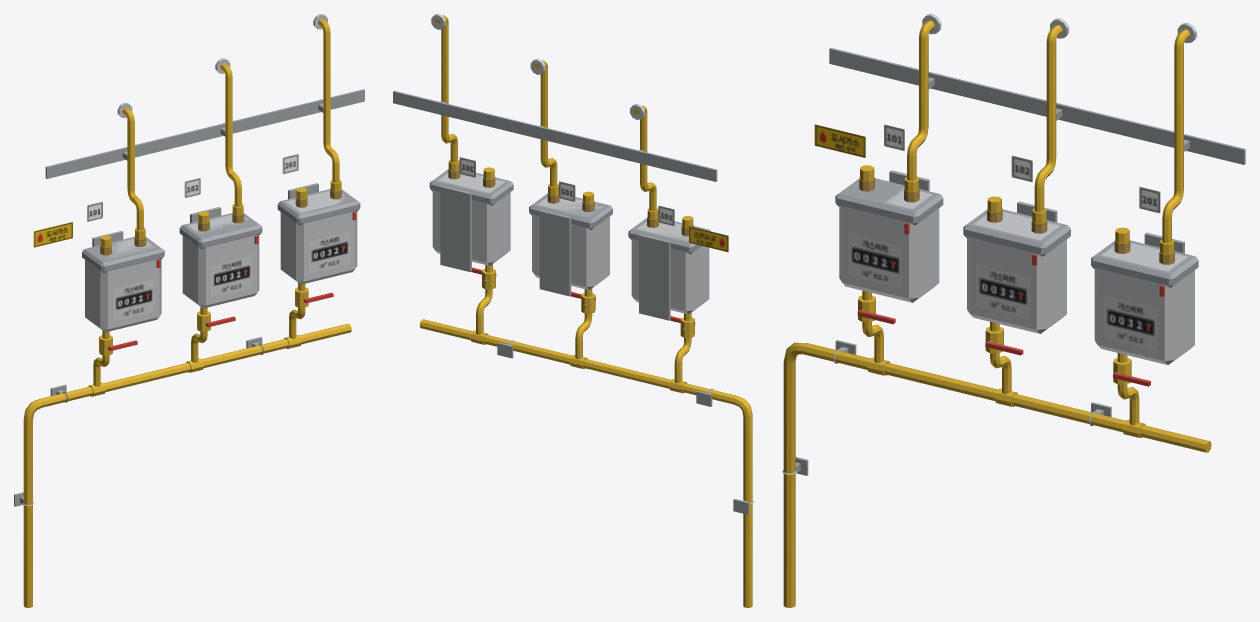
The model's file is SC_Util_Gas_Meter_Bank.gltf.
The picture shows the model from 3 angles, left to right: view 1: azimuth 30°, elevation 25°; view 2: azimuth 150°, elevation 25°; view 3: azimuth 330°, elevation 25°; orthographic projection. The views are drawn at different scales.
Visible parts, largest first — view 1: SC_Util_Gas_Meter_Bank; view 2: SC_Util_Gas_Meter_Bank; view 3: SC_Util_Gas_Meter_Bank.
Part boxes in pixels (<box>): SC_Util_Gas_Meter_Bank: <box>14,14,364,607</box>; SC_Util_Gas_Meter_Bank: <box>393,14,753,607</box>; SC_Util_Gas_Meter_Bank: <box>782,14,1245,607</box>.
Size of the model in its own units: 1.43 by 2.01 by 0.197.
Materials: 2 (2 with a texture image).
